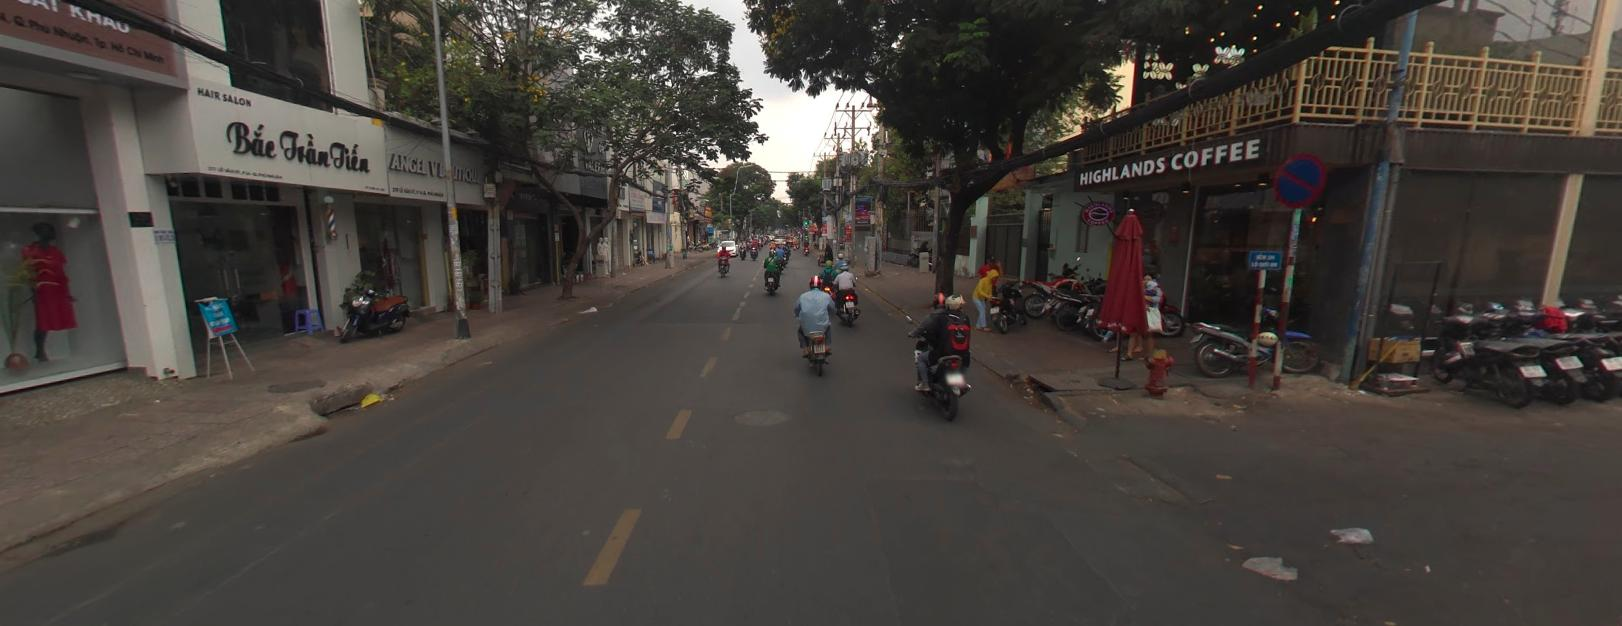Cam dung va do: (1270, 148, 1330, 214)
